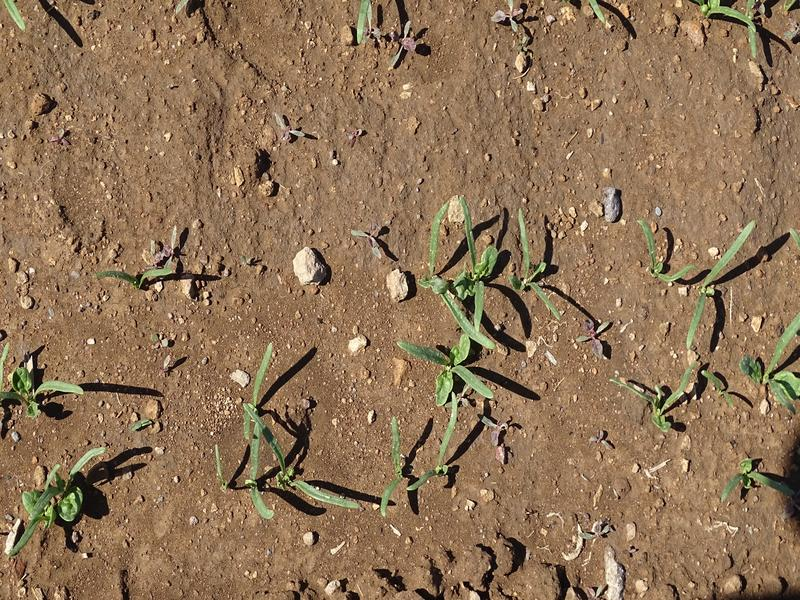Espinaca: (409, 193, 560, 404), (636, 212, 740, 436), (229, 348, 359, 516), (381, 400, 461, 523), (9, 446, 103, 550), (745, 316, 800, 409), (1, 363, 83, 419), (702, 1, 764, 57), (719, 458, 789, 497), (97, 266, 176, 292)
